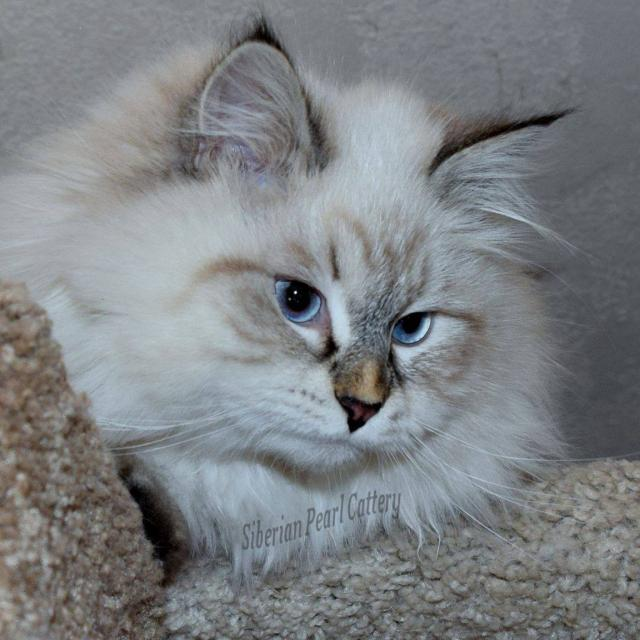Neva Masquerade: (0, 10, 578, 578)
